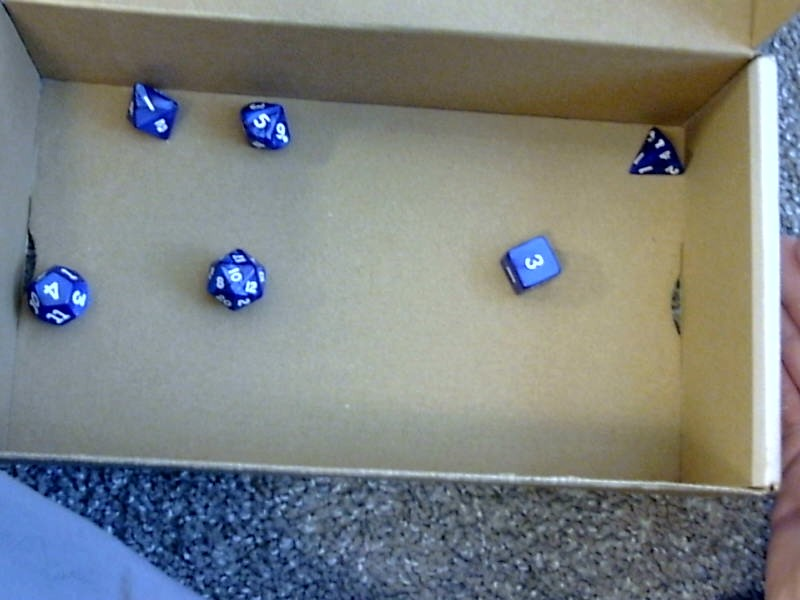d10 5: (235, 91, 294, 158)
d12 4: (25, 264, 90, 328)
d20 10: (200, 246, 271, 311)
d4 4: (626, 120, 687, 184)
d6 3: (496, 233, 563, 297)
d8 1: (119, 79, 193, 141)
